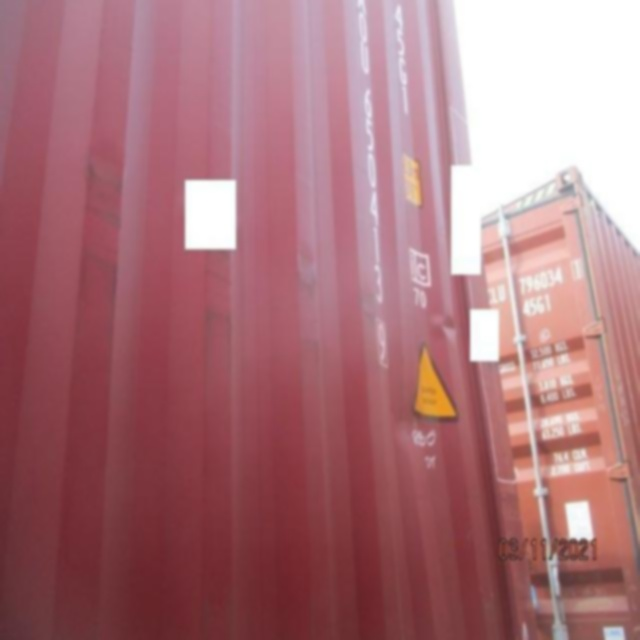Dent: (361, 305, 465, 485)
